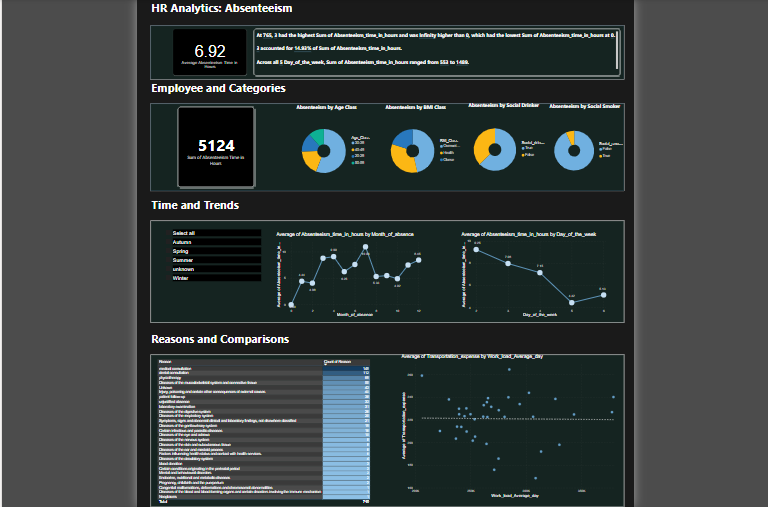

What the dashboard file says about the page in this screenshot:
{"tool":"powerbi","page":{"name":"Page 1","canvas":[1880,1920],"ordinal":0},"visuals":[{"type":"shape","box":[47.9,97.9,1792.6,206.1],"z":0},{"type":"shape","box":[47.9,834.9,1792.6,389.3],"z":1000},{"type":"shape","box":[47.9,1340.8,1792.6,578.8],"z":2000},{"type":"shape","box":[47.9,391.4,1792.6,333.1],"z":3000},{"type":"card","fields":{"Values":["Avg(Query1.Absenteeism_time_in_hours)"]},"box":[136.7,115,278.3,175],"z":4000},{"type":"donutChart","title":" Absenteeism by Age Class ","fields":{"Y":["Sum(Query1.Absenteeism_time_in_hours)"],"Category":["Query1.Age_Class"]},"box":[598.3,395,305,330],"z":5000},{"type":"donutChart","title":"Absenteeism by BMI Class","fields":{"Category":["Query1.BMI_Class"],"Y":["Sum(Query1.Absenteeism_time_in_hours)"]},"box":[935,395,305,330],"z":6000},{"type":"donutChart","title":"Absenteeism by Social Smoker","fields":{"Y":["Sum(Query1.Absenteeism_time_in_hours)"],"Category":["Query1.Social_smoker"]},"box":[1553.3,391.7,295,335],"z":7000},{"type":"donutChart","title":"Absenteeism by Social Drinker","fields":{"Y":["Sum(Query1.Absenteeism_time_in_hours)"],"Category":["Query1.Social_drinker"]},"box":[1248.3,390,305,335],"z":8000},{"type":"lineChart","fields":{"Y":["Avg(Query1.Absenteeism_time_in_hours)"],"Category":["Query1.Day_of_the_week"]},"box":[1220,880.7,558,326.9],"z":9000},{"type":"lineChart","fields":{"Y":["Avg(Query1.Absenteeism_time_in_hours)"],"Category":["Query1.Month_of_absence"]},"box":[520.5,880.7,558,326.9],"z":10000},{"type":"tableEx","fields":{"Values":["Query1.Reason","CountNonNull(Query1.Reason)"]},"box":[70.8,1355.3,839,564.2],"z":11000},{"type":"scatterChart","fields":{"X":["Query1.Work_load_Average_day"],"Y":["Avg(Query1.Transportation_expense)"]},"box":[994,1341.7,831.5,548],"z":12000},{"type":"card","fields":{"Values":["Sum(Query1.Absenteeism_time_in_hours)"]},"box":[155,406.7,286.7,301.7],"z":13000},{"type":"textbox","box":[48.3,0,550,98.3],"z":14000},{"type":"textbox","box":[48.3,303.3,550,73.3],"z":15000},{"type":"textbox","box":[48.3,745,550,68.3],"z":16000},{"type":"textbox","box":[48.3,1250,550,90],"z":17000},{"type":"slicer","fields":{"Values":["Query1.Season_names"]},"box":[93.3,860,380,325],"z":18000},{"type":"textbox","box":[441.7,115,1383.3,175],"z":19000}]}

Visuals, with their boxes on the page's 1880x1920 design canvas (x1, y1, x2, y2). These are canvas units, not pixel positions in the 768x507 screenshot, which may show the page scaled, cropped or inside an application window:
shape: 48,98,1840,304
shape: 48,835,1840,1224
shape: 48,1341,1840,1920
shape: 48,391,1840,724
card - Avg(Query1.Absenteeism_time_in_hours): 137,115,415,290
" Absenteeism by Age Class " donutChart: 598,395,903,725
"Absenteeism by BMI Class" donutChart: 935,395,1240,725
"Absenteeism by Social Smoker" donutChart: 1553,392,1848,727
"Absenteeism by Social Drinker" donutChart: 1248,390,1553,725
lineChart - Avg(Query1.Absenteeism_time_in_hours) x Query1.Day_of_the_week: 1220,881,1778,1208
lineChart - Avg(Query1.Absenteeism_time_in_hours) x Query1.Month_of_absence: 520,881,1078,1208
tableEx - Query1.Reason x CountNonNull(Query1.Reason): 71,1355,910,1920
scatterChart - Query1.Work_load_Average_day x Avg(Query1.Transportation_expense): 994,1342,1826,1890
card - Sum(Query1.Absenteeism_time_in_hours): 155,407,442,708
textbox: 48,0,598,98
textbox: 48,303,598,377
textbox: 48,745,598,813
textbox: 48,1250,598,1340
slicer - Query1.Season_names: 93,860,473,1185
textbox: 442,115,1825,290
